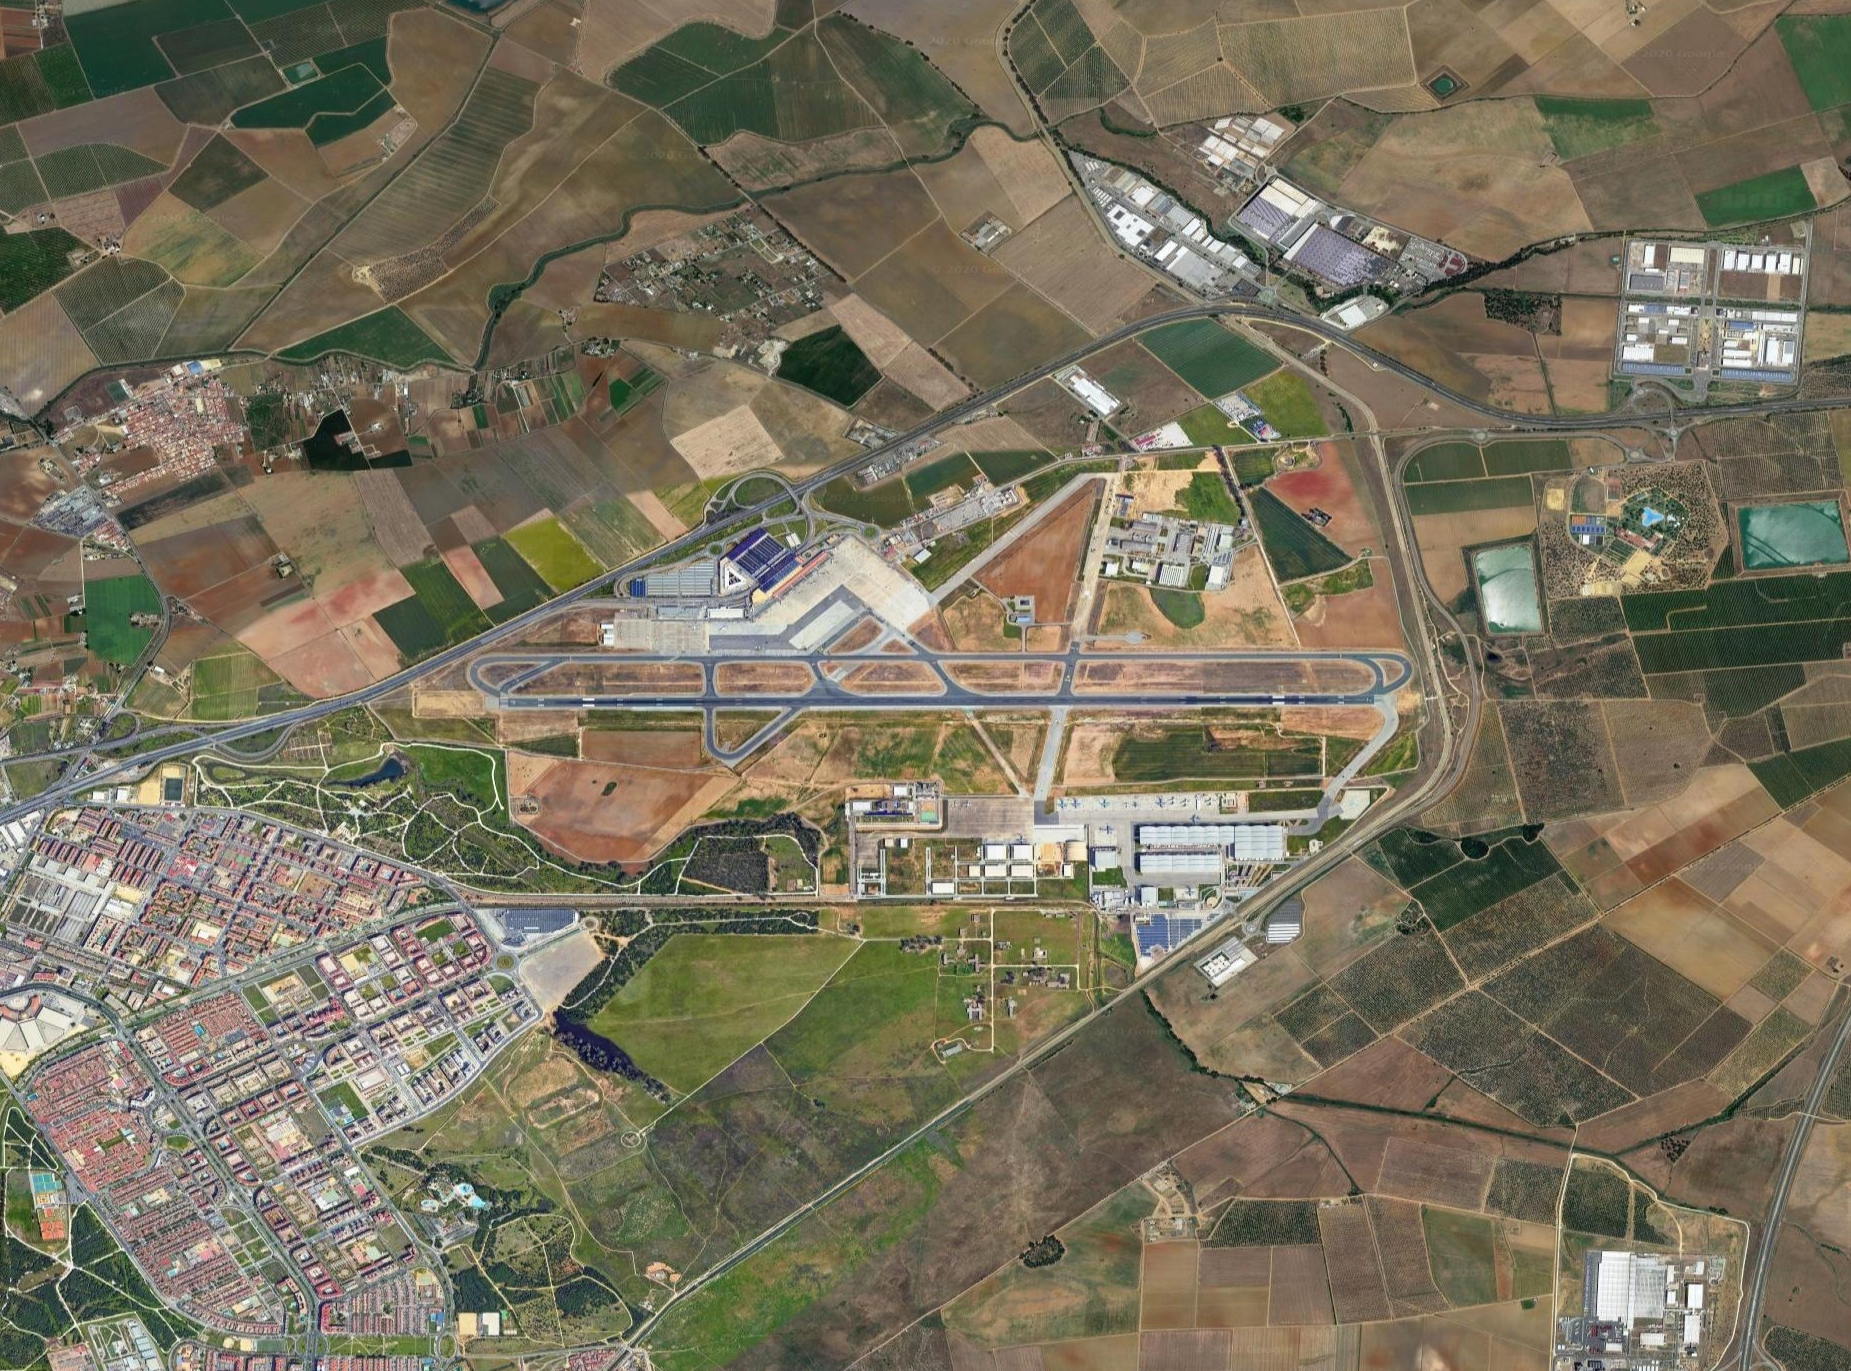airport: (461, 468, 1416, 907)
motorway: (1404, 619, 1485, 817), (1626, 382, 1851, 428), (650, 482, 791, 554), (637, 1249, 746, 1339), (794, 421, 932, 490), (1786, 997, 1851, 1141), (1747, 1135, 1806, 1282), (746, 1168, 854, 1246), (860, 1097, 968, 1175), (972, 1021, 1080, 1099), (1077, 950, 1186, 1028), (1190, 876, 1298, 953), (1302, 802, 1410, 880), (1330, 331, 1446, 402), (1449, 395, 1623, 441), (213, 688, 343, 745), (1145, 300, 1327, 337), (1037, 323, 1142, 382), (447, 596, 553, 654), (931, 369, 1037, 426), (341, 651, 447, 709), (547, 546, 653, 603), (1386, 480, 1428, 621), (1726, 1282, 1772, 1371)
